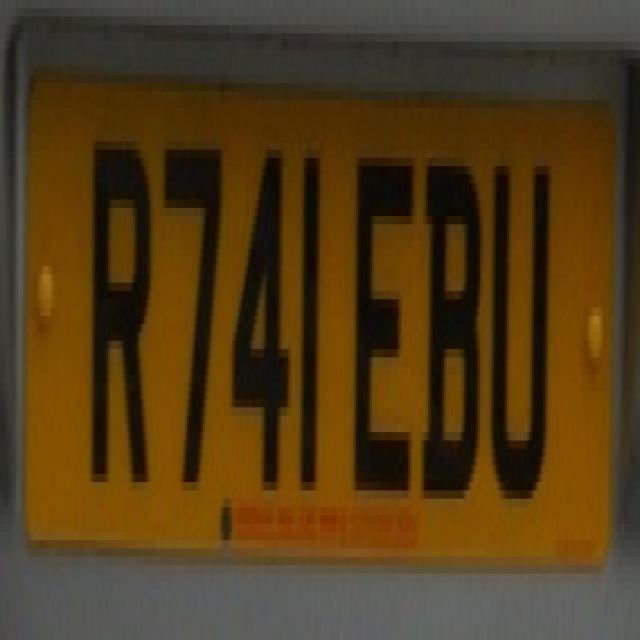licenseplate: (21, 31, 617, 580)
